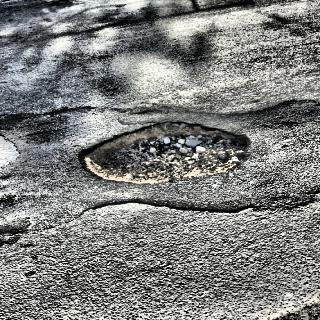pothole: (85, 115, 247, 187)
